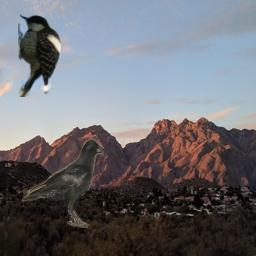Crow: (22, 138, 104, 228)
Woodpecker: (18, 14, 61, 97)
